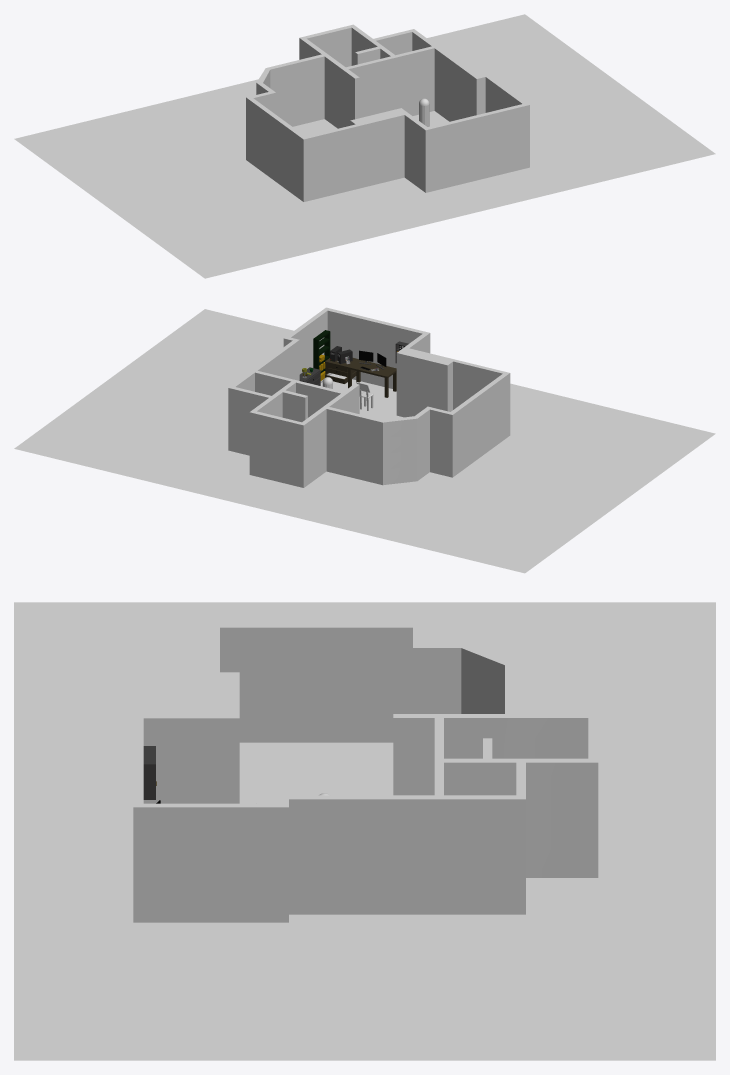
File: Matvey(computer part).fbx
3 views of the same model, one above another, from view 1: azimuth 30°, elevation 25°; view 2: azimuth 150°, elevation 25°; view 3: azimuth 270°, elevation 25° (orthographic). The views are drawn at different scales.
Visible parts, largest first — view 1: Plane001, Box001; view 2: Plane001, Box001, Cube_10_2; view 3: Plane001, Box001.
Boxes of the visible parts, <box> form: Plane001: <box>14,14,715,278</box>; Box001: <box>246,24,529,201</box>; Plane001: <box>14,309,715,573</box>; Box001: <box>228,307,510,487</box>; Cube_10_2: <box>345,358,396,378</box>; Plane001: <box>14,602,715,1060</box>; Box001: <box>133,623,598,922</box>.
Bounding box in the file's own units: 403 × 48.6 × 261.
18 materials, 1 textured.
